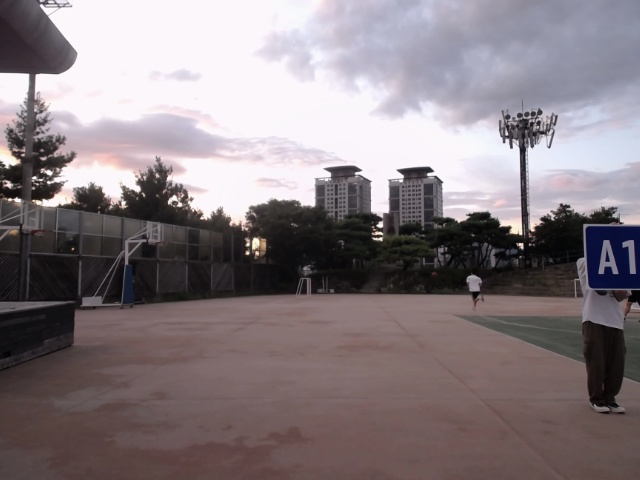delivery_a1: (584, 224, 639, 289)
